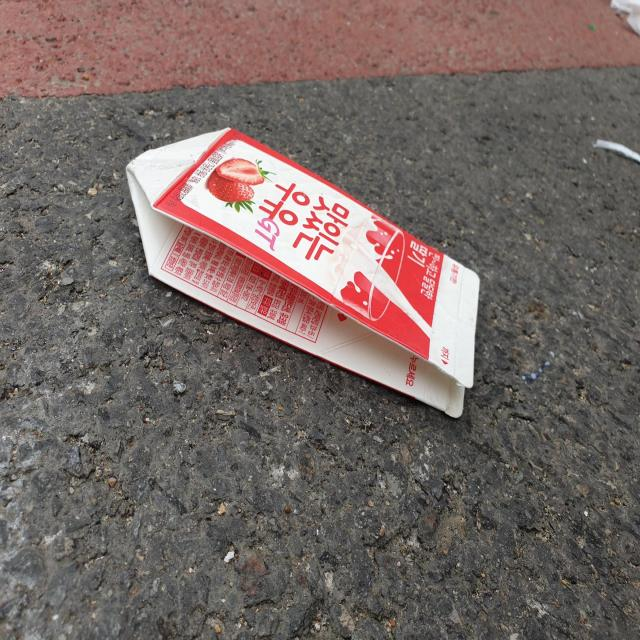paperpack: (126, 128, 480, 417)
